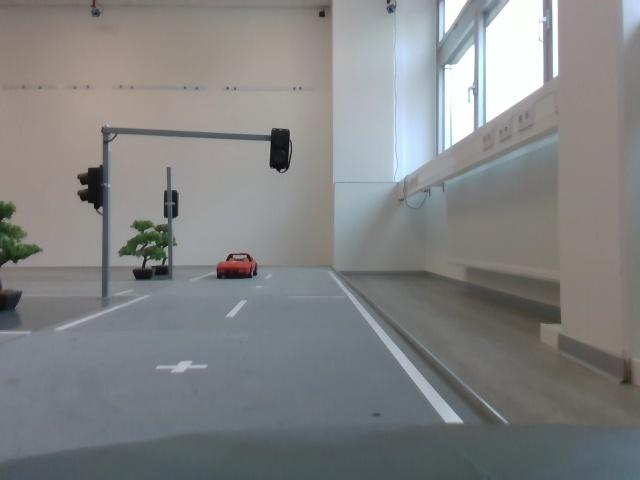car: (217, 253, 259, 281)
potted plant: (1, 199, 51, 328), (121, 218, 166, 283), (153, 222, 177, 282)
traffic light: (78, 164, 111, 211), (269, 129, 294, 173), (164, 190, 180, 218)
